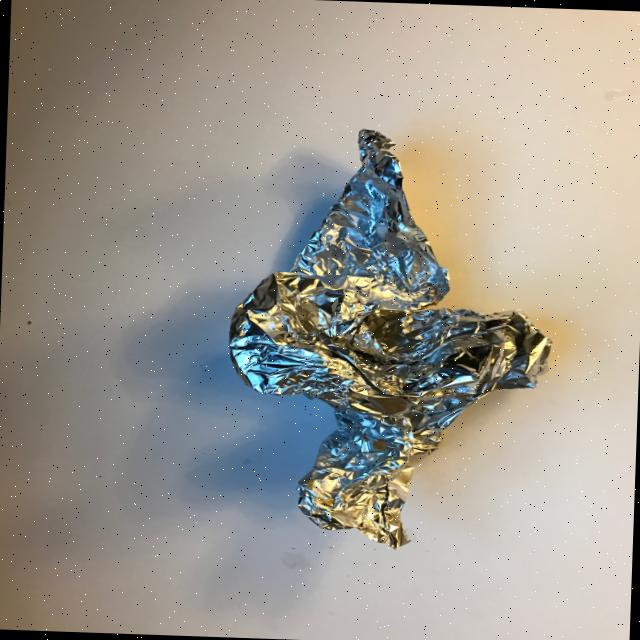metal: (220, 122, 560, 554)
